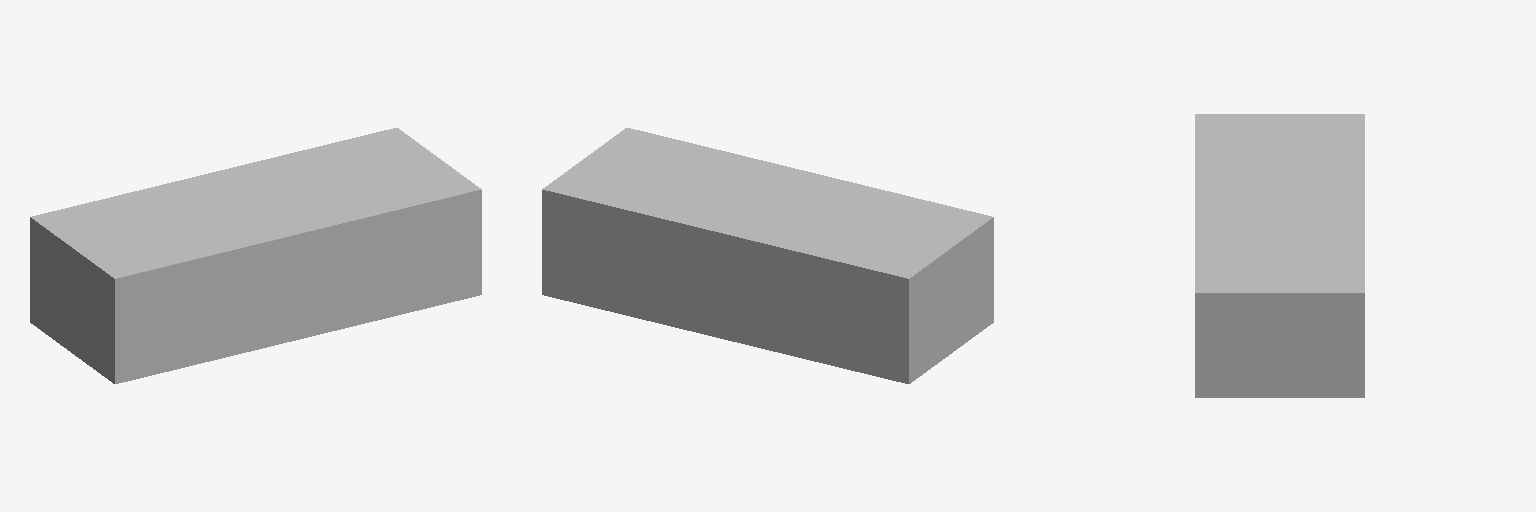
File: example.obj
3 views of the same model, side by side, from view 1: azimuth 30°, elevation 25°; view 2: azimuth 150°, elevation 25°; view 3: azimuth 270°, elevation 25° (orthographic).
Visible parts, largest first — view 1: entity0_brush5, entity0_brush2, entity0_brush3, entity0_brush0, entity0_brush1; view 2: entity0_brush5, entity0_brush4, entity0_brush3, entity0_brush0, entity0_brush1; view 3: entity0_brush5, entity0_brush1, entity0_brush0.
Boxes of the visible parts, <box> form: entity0_brush5: <box>30,128,481,287</box>; entity0_brush2: <box>124,201,472,372</box>; entity0_brush3: <box>30,227,123,374</box>; entity0_brush0: <box>30,286,481,383</box>; entity0_brush1: <box>473,199,481,286</box>; entity0_brush5: <box>542,128,993,287</box>; entity0_brush4: <box>551,201,899,372</box>; entity0_brush3: <box>900,227,993,374</box>; entity0_brush0: <box>542,286,993,383</box>; entity0_brush1: <box>542,199,550,286</box>; entity0_brush5: <box>1195,114,1364,301</box>; entity0_brush1: <box>1195,302,1364,388</box>; entity0_brush0: <box>1195,389,1364,397</box>.
Size of the model in its own units: 640 by 176 by 256.